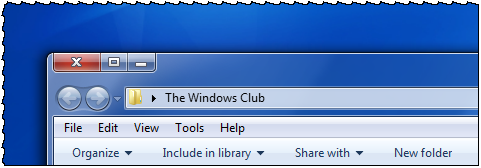close: (52, 51, 102, 74)
